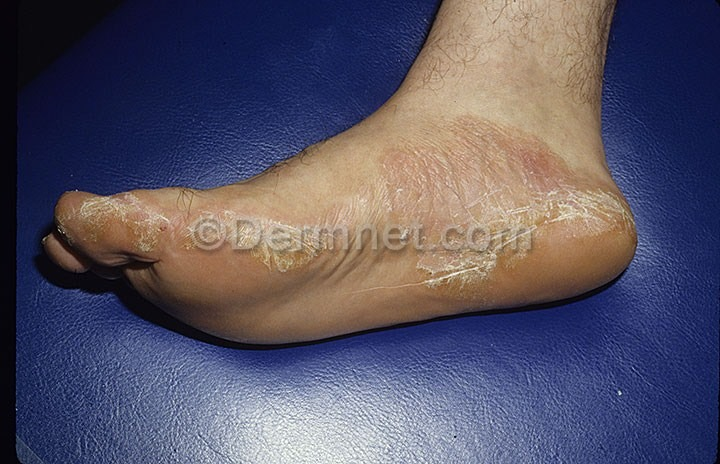Psoriasis: (392, 135, 611, 286), (191, 204, 343, 270), (70, 195, 187, 257)
